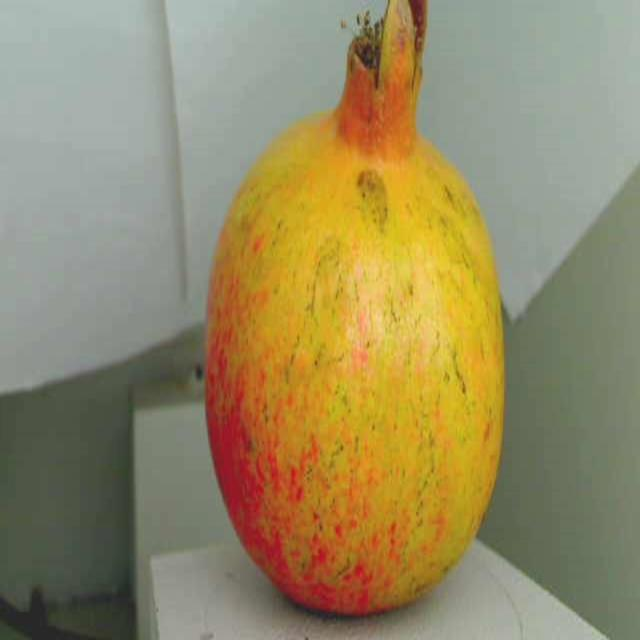pomegranate: (195, 0, 513, 640)
